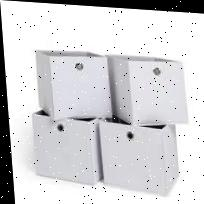cube: (107, 50, 194, 126), (99, 117, 180, 198), (30, 45, 112, 121), (28, 110, 103, 187)
